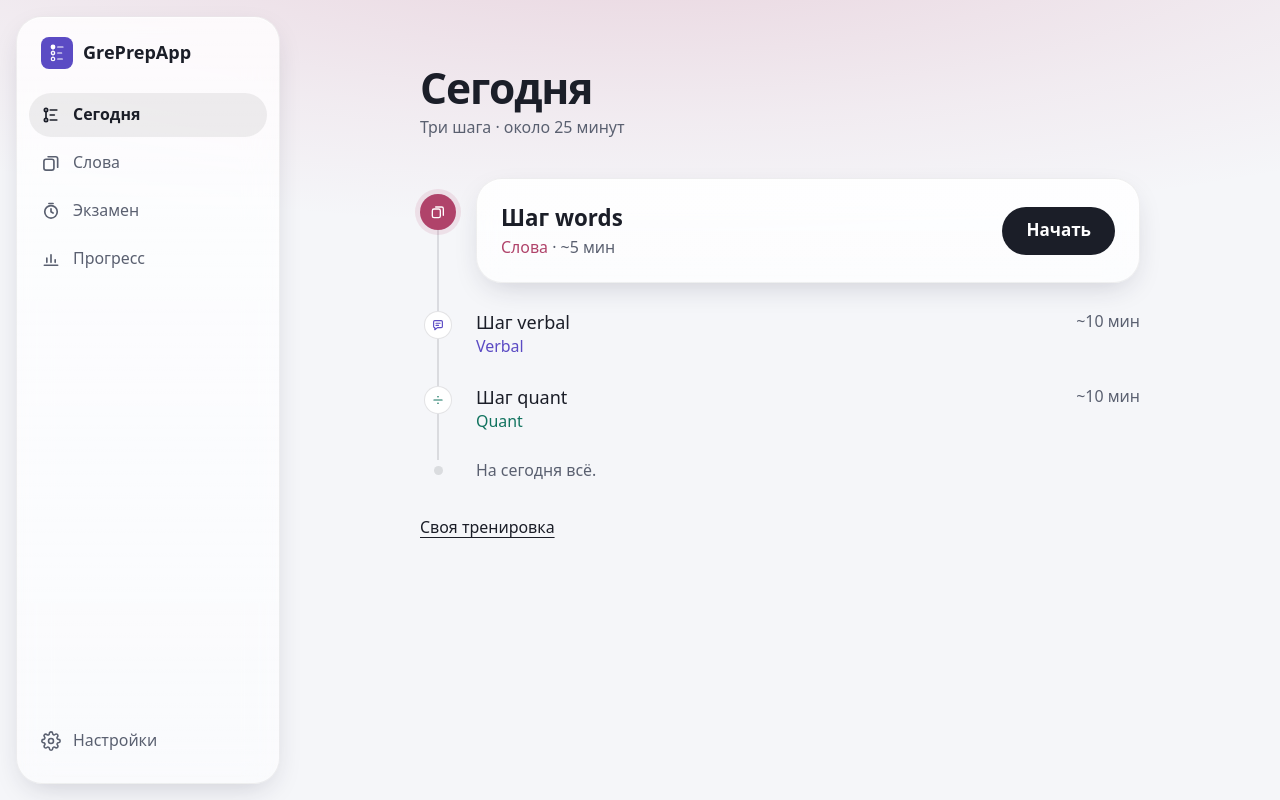
Test: с «Сегодня» можно открыть конструктор со всеми полями
Click the link "Своя тренировка" at (487, 527), box [420,516,555,538]
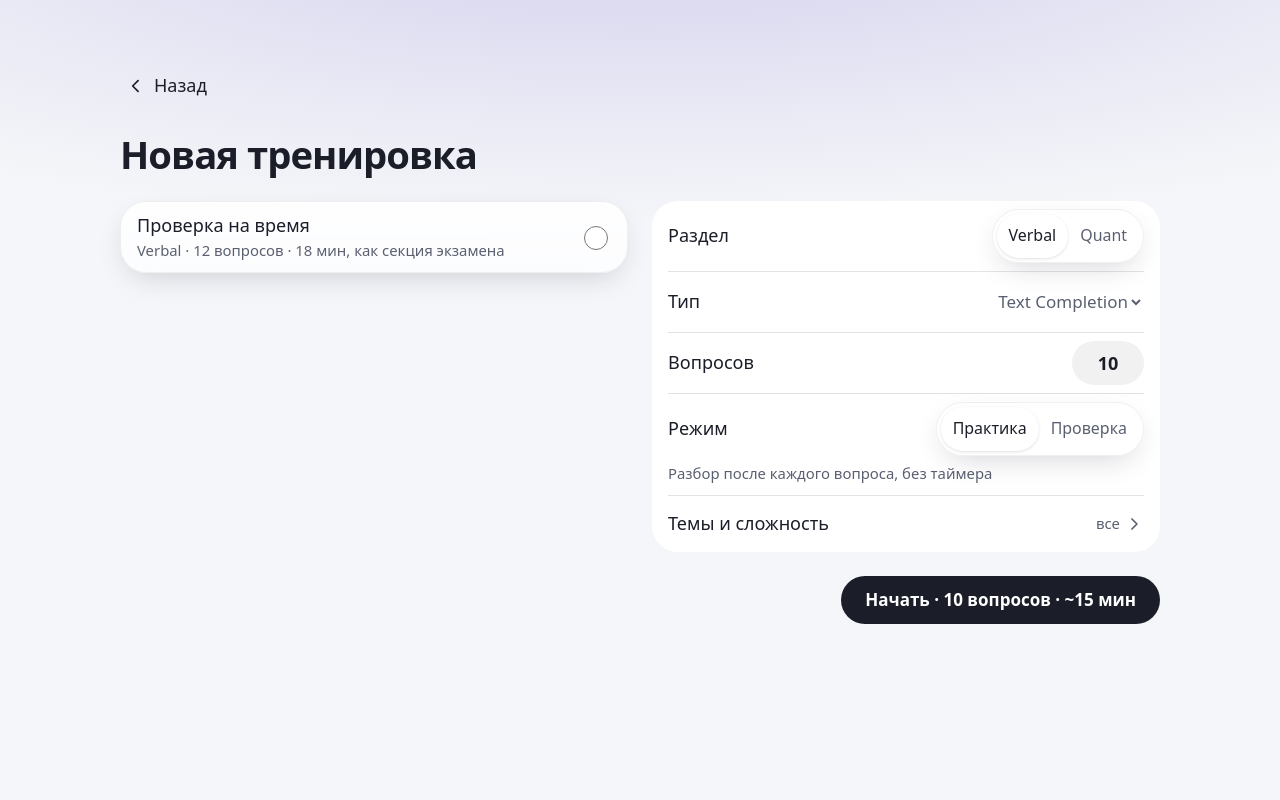
Expected: the heading "Новая тренировка" is shown, [120,128,477,180]
Expected: the field labelled "Вопросов" holds "10", [1072,341,1144,385]
